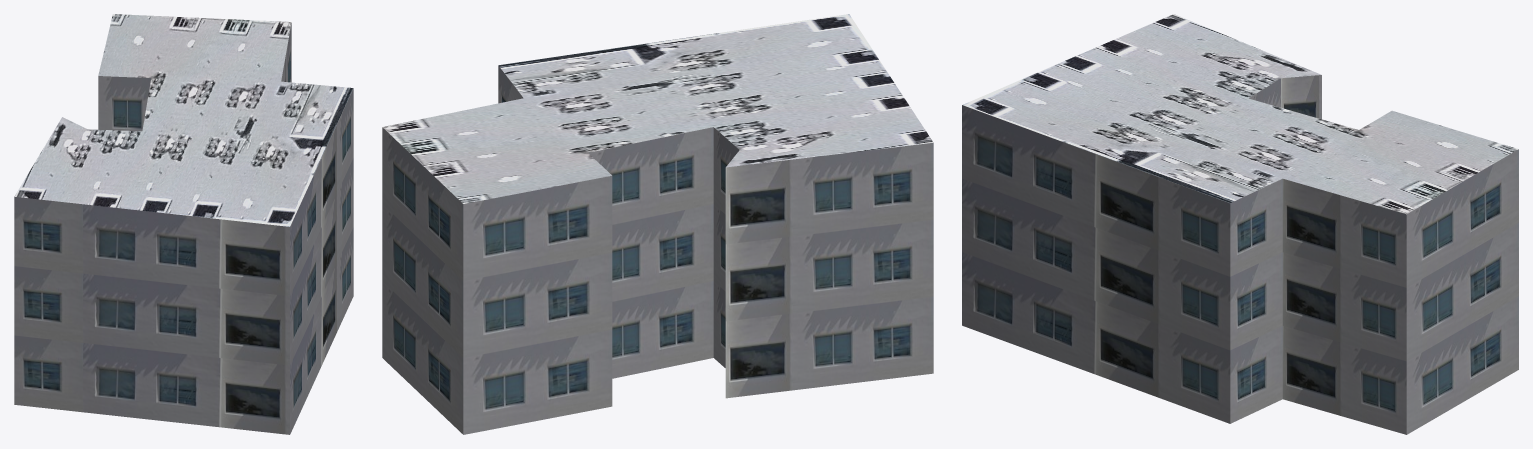
Rendered from ResTex__5059.fbx.
3 renders of one model, left to right at view 1: azimuth 30°, elevation 25°; view 2: azimuth 150°, elevation 25°; view 3: azimuth 270°, elevation 25°, orthographic. The views are drawn at different scales.
Visible parts, largest first — view 1: CityEngineMaterial_10_m, CityEngineMaterial_8_m; view 2: CityEngineMaterial_10_m, CityEngineMaterial_8_m; view 3: CityEngineMaterial_10_m, CityEngineMaterial_8_m.
Part boxes in pixels (x1,y1,x2,y2): CityEngineMaterial_10_m: [14, 23, 353, 434]; CityEngineMaterial_8_m: [14, 14, 353, 226]; CityEngineMaterial_10_m: [382, 66, 933, 434]; CityEngineMaterial_8_m: [382, 14, 933, 203]; CityEngineMaterial_10_m: [962, 75, 1518, 434]; CityEngineMaterial_8_m: [963, 14, 1518, 214].
Bounding box in the file's own units: 17.52 × 9 × 20.58.
2 materials, 2 textured.
